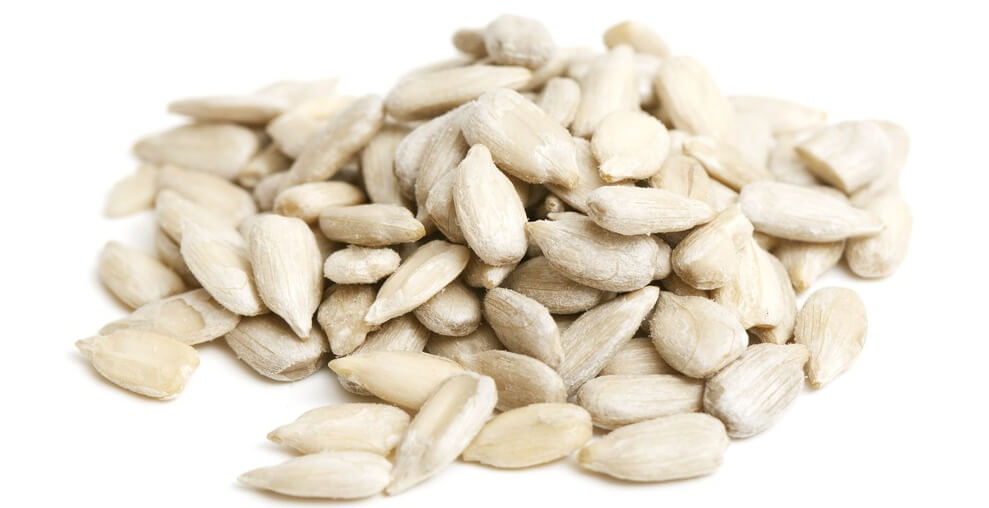seed: (63, 6, 920, 508)
